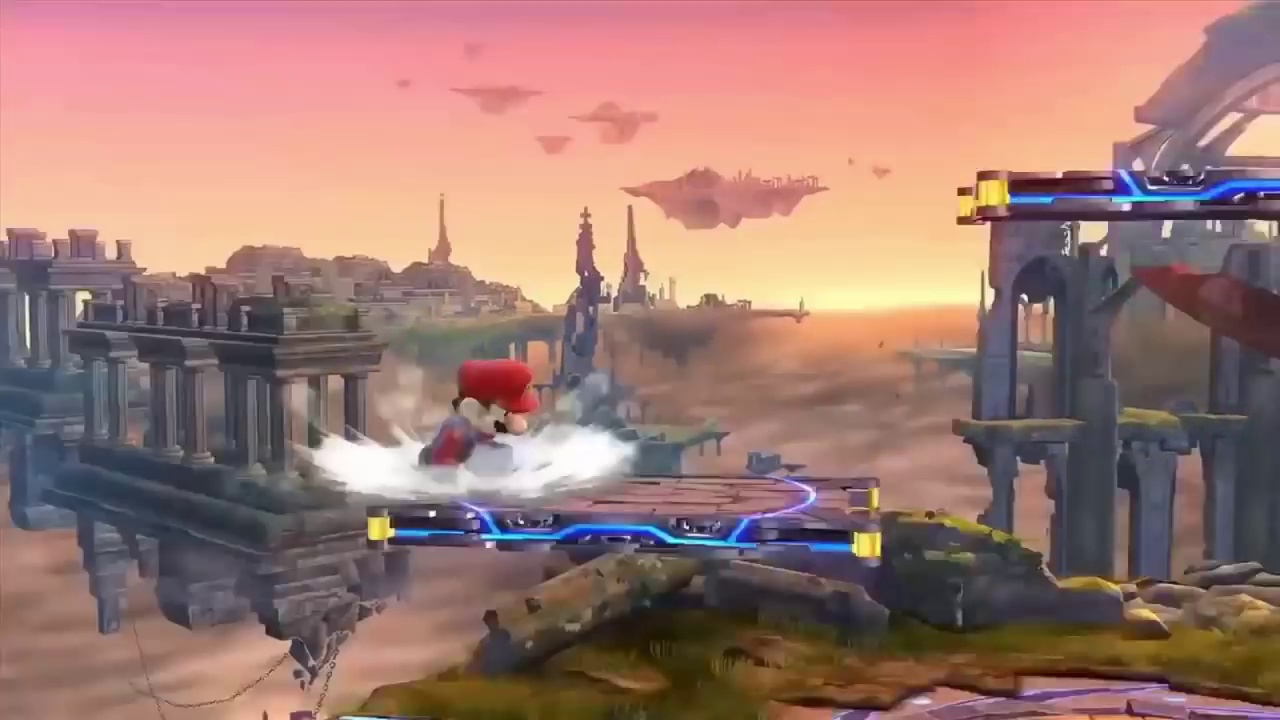Mario: (420, 359, 536, 480)
